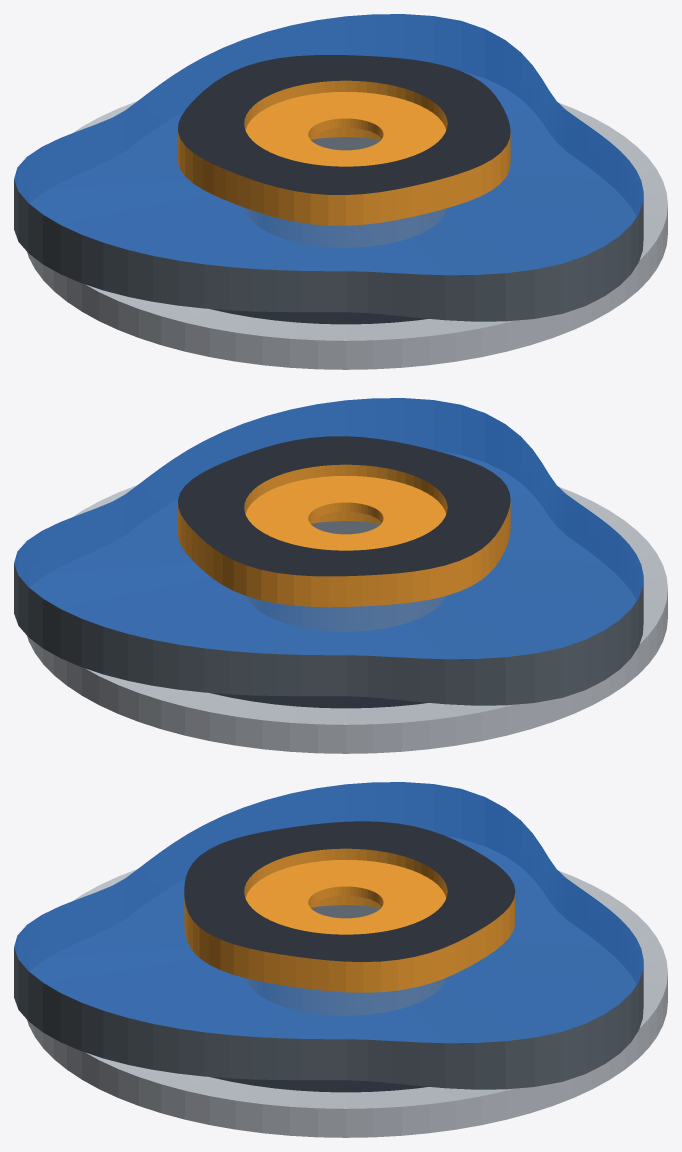
The model's file is assembly_phase2a_storm_fang.glb.
The picture shows the model from 3 angles, top to bottom: view 1: azimuth 30°, elevation 25°; view 2: azimuth 150°, elevation 25°; view 3: azimuth 270°, elevation 25°; orthographic projection.
Parts seen in each view (by area): view 1: GEO_blade_storm_fang_BODY, GEO_core_solar_wolf_BODY, GEO_assist_heavy_BODY, GEO_core_solar_wolf_NSS_V1_COLLAR, GEO_blade_storm_fang_NSS_V1_COLLAR; view 2: GEO_blade_storm_fang_BODY, GEO_core_solar_wolf_BODY, GEO_assist_heavy_BODY, GEO_core_solar_wolf_NSS_V1_COLLAR, GEO_blade_storm_fang_NSS_V1_COLLAR; view 3: GEO_blade_storm_fang_BODY, GEO_core_solar_wolf_BODY, GEO_assist_heavy_BODY, GEO_core_solar_wolf_NSS_V1_COLLAR, GEO_blade_storm_fang_NSS_V1_COLLAR.
Boxes of the visible parts, x1,y1,x2,y2 form: GEO_blade_storm_fang_BODY: [14, 14, 643, 321]; GEO_core_solar_wolf_BODY: [178, 55, 510, 225]; GEO_assist_heavy_BODY: [27, 101, 667, 369]; GEO_core_solar_wolf_NSS_V1_COLLAR: [245, 92, 445, 166]; GEO_blade_storm_fang_NSS_V1_COLLAR: [311, 137, 380, 150]; GEO_blade_storm_fang_BODY: [14, 398, 643, 705]; GEO_core_solar_wolf_BODY: [178, 436, 510, 607]; GEO_assist_heavy_BODY: [27, 485, 667, 753]; GEO_core_solar_wolf_NSS_V1_COLLAR: [245, 476, 445, 550]; GEO_blade_storm_fang_NSS_V1_COLLAR: [311, 521, 380, 534]; GEO_blade_storm_fang_BODY: [14, 782, 643, 1089]; GEO_core_solar_wolf_BODY: [184, 821, 515, 992]; GEO_assist_heavy_BODY: [27, 869, 667, 1137]; GEO_core_solar_wolf_NSS_V1_COLLAR: [245, 860, 445, 934]; GEO_blade_storm_fang_NSS_V1_COLLAR: [311, 905, 380, 918].
Bounding box in the file's own units: 0.0696 × 0.0239 × 0.0694.
